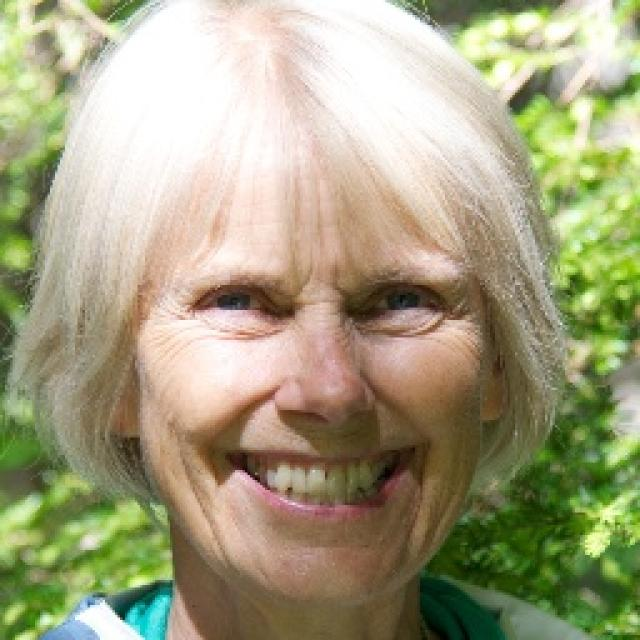earlobe: (105, 392, 145, 440), (475, 372, 513, 422)
eye: (195, 283, 277, 318), (364, 284, 435, 316)
nose: (276, 402, 389, 464)
